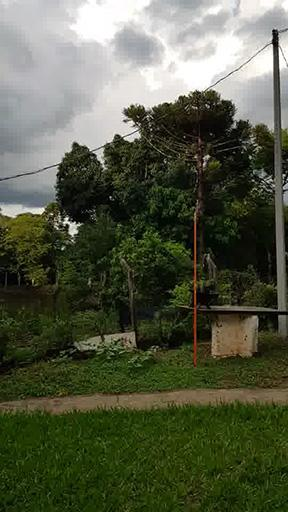Vara_Manobra: (193, 212, 198, 366)
